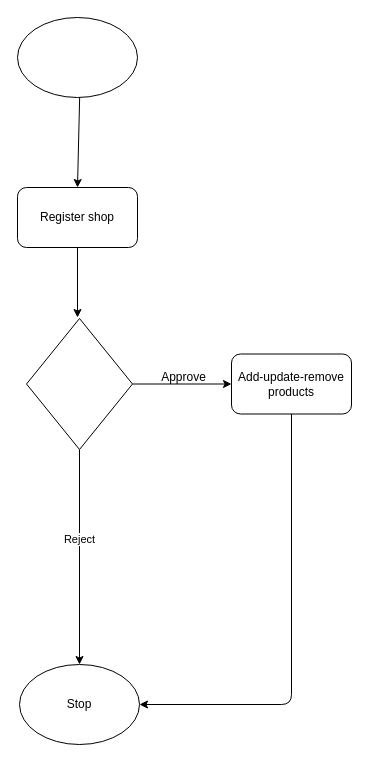
The diagram is 369 pixels wide and 762 high, and some of its shapes have lost their labels. The box of each missing label's shape, as (x1, y1, x2, y2) in pixels:
Start: (16, 16, 138, 98)
Waiting for verification approval: (26, 318, 132, 450)
